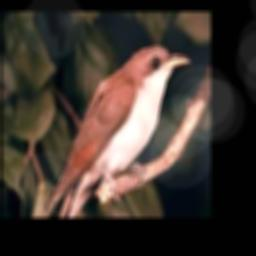Cuckoo: (43, 44, 191, 211)
